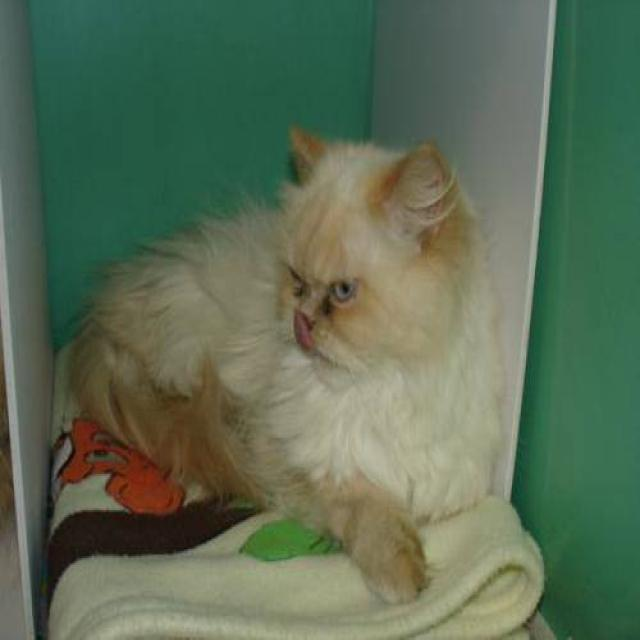cat: (52, 125, 504, 604)
